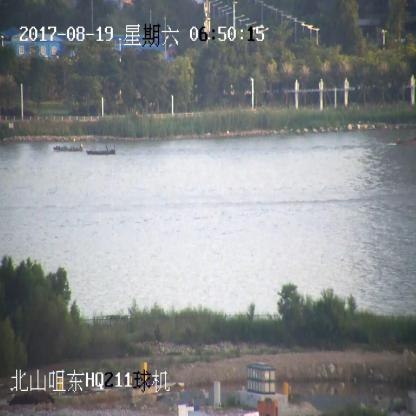Fishing Boat: (88, 146, 115, 156), (53, 144, 84, 152), (396, 135, 416, 147)
